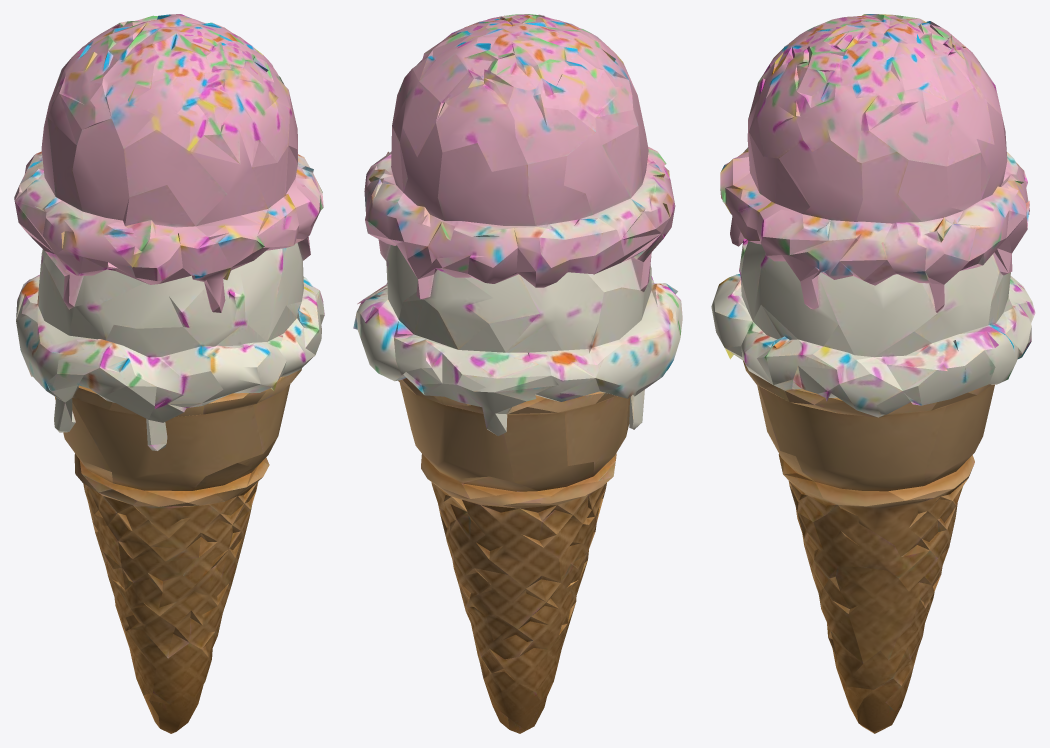
The model's file is ice_cream_cone.glb.
3 renders of one model, left to right at view 1: azimuth 30°, elevation 25°; view 2: azimuth 150°, elevation 25°; view 3: azimuth 270°, elevation 25°, orthographic.
Visible parts, largest first — view 1: Mesh_0; view 2: Mesh_0; view 3: Mesh_0.
Boxes of the visible parts, x1,y1,x2,y2 form: Mesh_0: (14,14,324,733); Mesh_0: (353,14,682,733); Mesh_0: (711,14,1035,733).
Size of the model in its own units: 0.0735 by 0.18 by 0.0747.
Materials: 1 (1 with a texture image).
